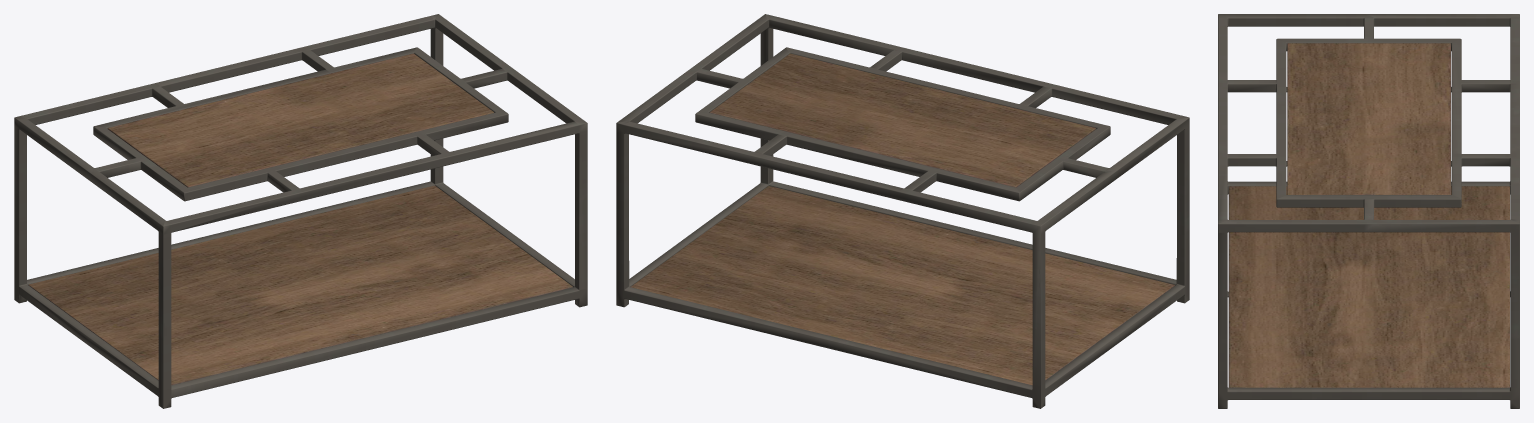
The model's file is b6bdc26a-36bb-4be3-8f64-312836aae79b.glb.
3 renders of one model, left to right at view 1: azimuth 30°, elevation 25°; view 2: azimuth 150°, elevation 25°; view 3: azimuth 270°, elevation 25°, orthographic.
Visible parts, largest first — view 1: Tatal-Wood, Table-Metal; view 2: Tatal-Wood, Table-Metal; view 3: Tatal-Wood, Table-Metal.
Boxes of the visible parts, x1,y1,x2,y2 form: Tatal-Wood: (28, 53, 572, 385); Table-Metal: (14, 14, 587, 408); Tatal-Wood: (630, 53, 1174, 385); Table-Metal: (616, 14, 1189, 408); Tatal-Wood: (1228, 43, 1509, 387); Table-Metal: (1218, 14, 1519, 408).
Size of the model in its own units: 1.02 by 0.4199 by 0.62.
2 materials, 2 textured.
